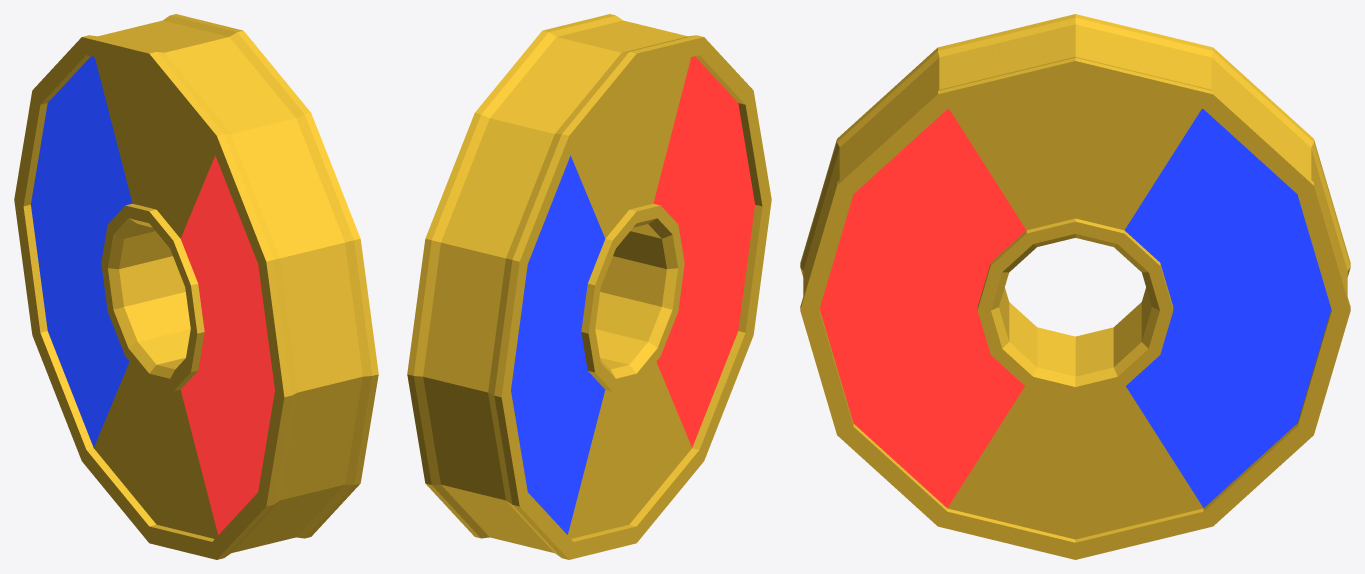
The model's file is coin.fbx.
3 views of the same model, side by side, from view 1: azimuth 30°, elevation 25°; view 2: azimuth 150°, elevation 25°; view 3: azimuth 270°, elevation 25° (orthographic).
Parts seen in each view (by area): view 1: Cylinder; view 2: Cylinder; view 3: Cylinder.
Boxes of the visible parts, x1,y1,x2,y2 form: Cylinder: (14, 14, 378, 559); Cylinder: (407, 14, 771, 559); Cylinder: (800, 14, 1350, 559).
Size of the model in its own units: 40.35 by 200 by 200.
